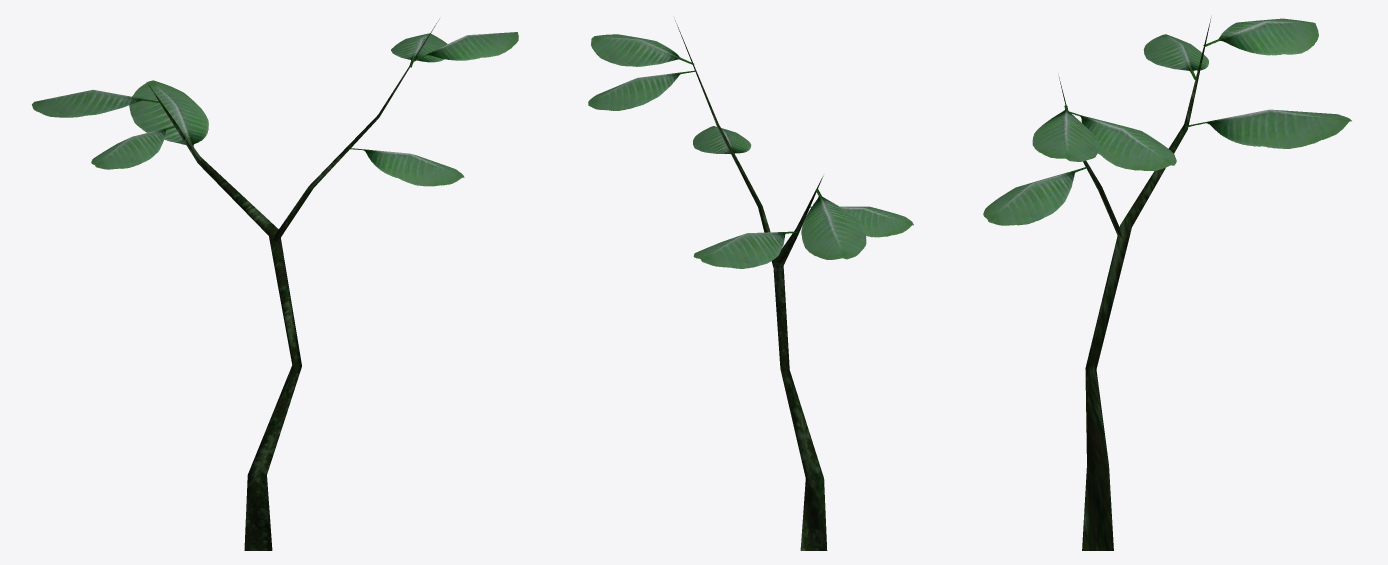
Rendered from leaf_forestsprout_a2_l0.fbx.
3 views of the same model, side by side, from view 1: azimuth 30°, elevation 25°; view 2: azimuth 150°, elevation 25°; view 3: azimuth 270°, elevation 25° (orthographic). The views are drawn at different scales.
Visible parts, largest first — view 1: mesh_node; view 2: mesh_node; view 3: mesh_node.
Part boxes in pixels (x1,y1,x2,y2): mesh_node: (32,19,518,550); mesh_node: (588,20,913,550); mesh_node: (983,18,1351,550).
Bounding box in the file's own units: 0.5597 × 0.6589 × 0.4399.
1 material, 1 textured.
